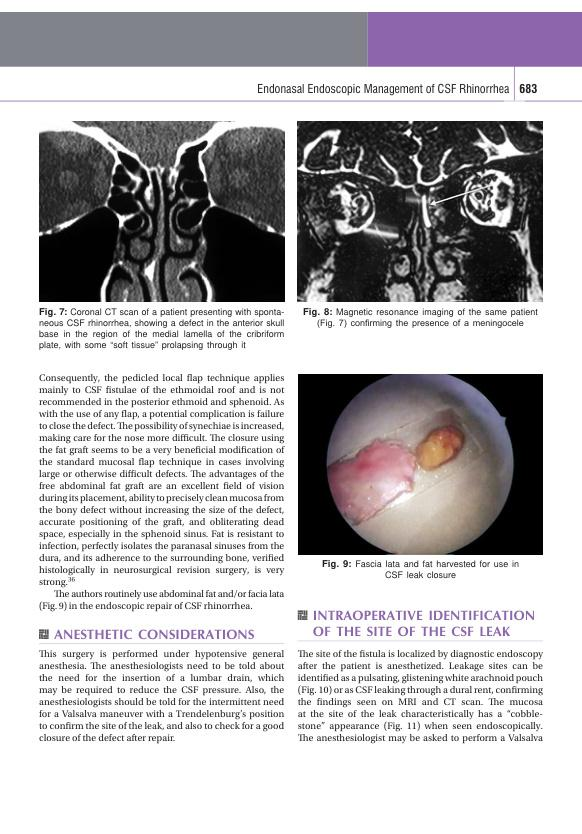caption: (37, 305, 286, 352), (302, 305, 540, 330), (321, 558, 520, 580)
header: (256, 82, 510, 97)
image: (297, 373, 544, 556), (38, 120, 286, 302), (297, 120, 543, 303)
section-heading: (311, 606, 537, 639), (52, 627, 256, 640)
text: (37, 371, 285, 613), (296, 647, 544, 745), (38, 649, 285, 745)
